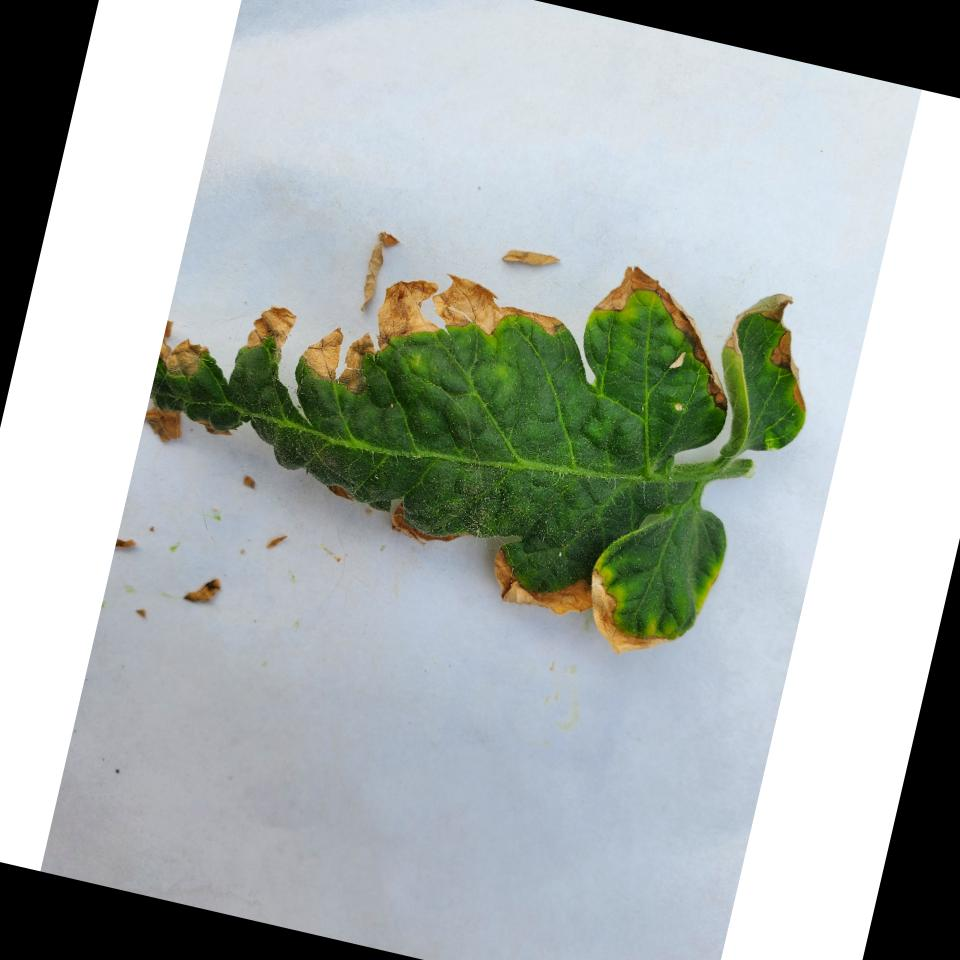tomato_bacterial_blight: (122, 160, 804, 651)
